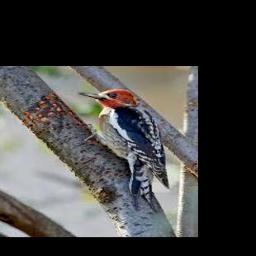Woodpecker: (78, 89, 169, 212)
